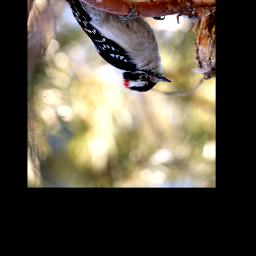Woodpecker: (61, 0, 172, 92)
